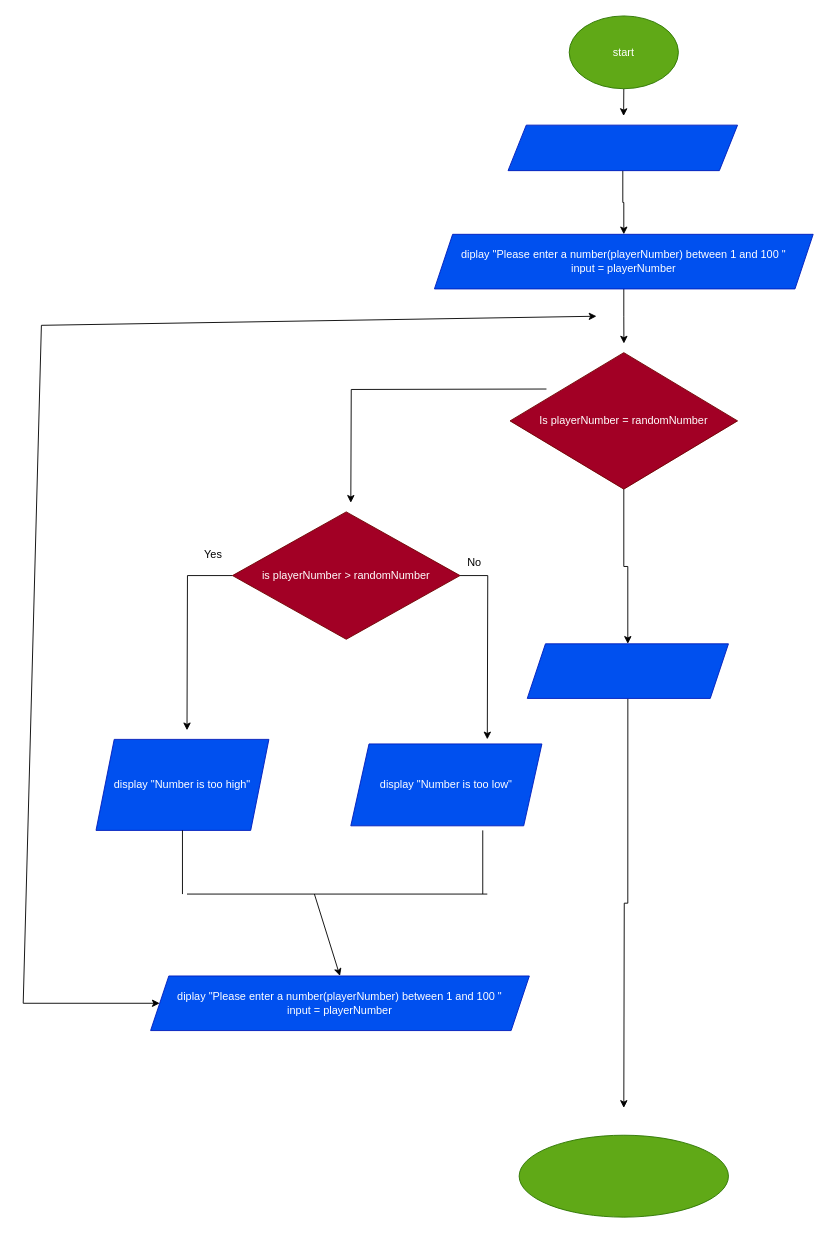
The diagram is 830 pixels wide and 1233 high, and some of its shapes have lost their labels. The shapes that lost their labels are listed below. From the top down, each one's centre as x and y in pixels, then its label:
(622,147): myNumber = randomNumber
(627,670): display "Guess is correct"
(623,1175): stop
